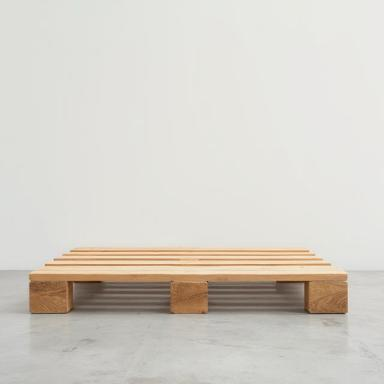pallet: (29, 246, 348, 314)
